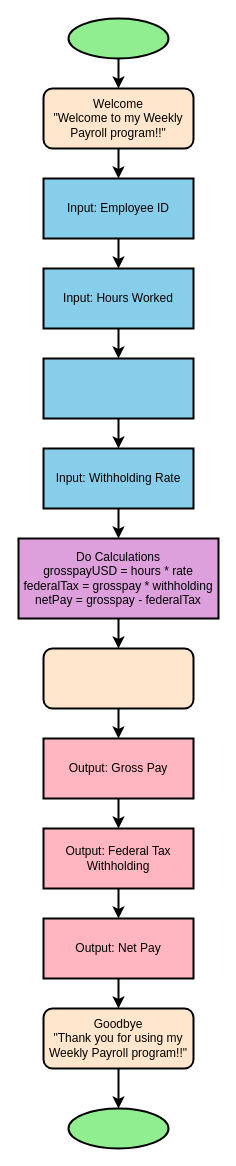
The diagram is 236 pixels wide and 1166 high, and some of its shapes have lost their labels. The centre of each missing label's shape, as x and y in pixels:
"Display: Payroll Summary" goes at [118,678].
"END" goes at [118,1128].
"Input: Hourly Rate" goes at [118,388].
"START" goes at [118,38].
